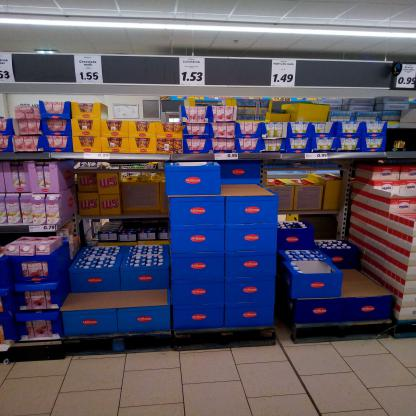prtg: (75, 56, 104, 84), (180, 58, 206, 86), (272, 61, 297, 88), (397, 64, 415, 90), (1, 54, 16, 83), (84, 154, 111, 161), (30, 226, 56, 233), (215, 154, 239, 161), (306, 154, 329, 160)
